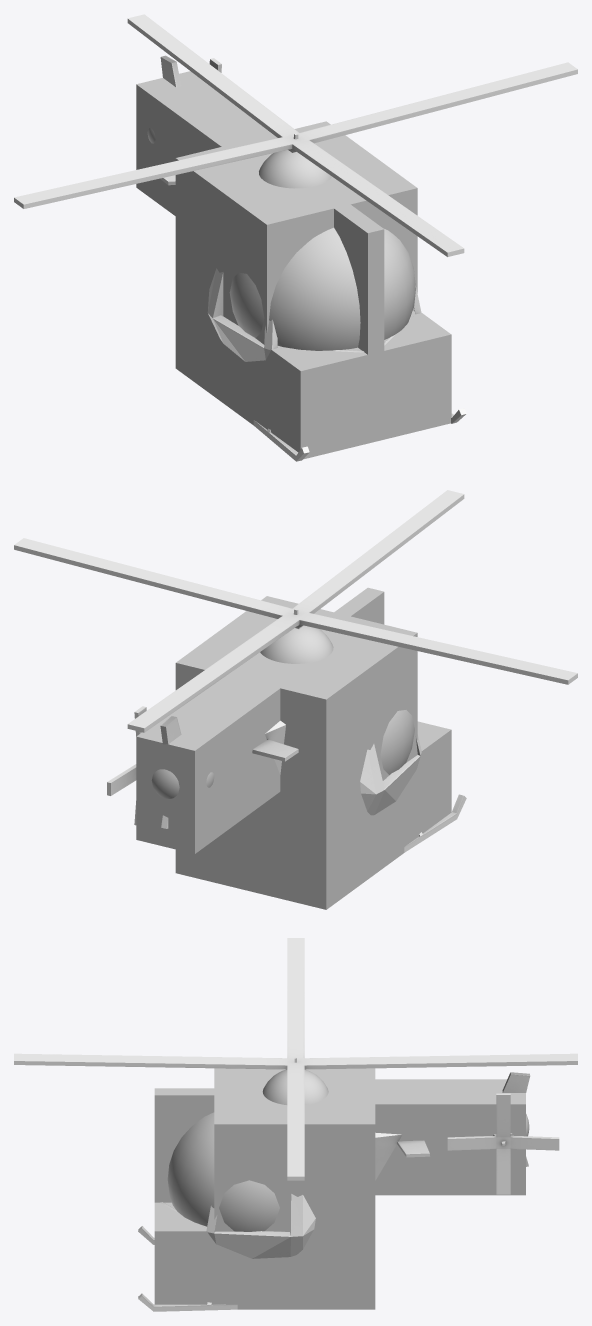
The model's file is heli.glb.
3 renders of one model, top to bottom at view 1: azimuth 30°, elevation 25°; view 2: azimuth 150°, elevation 25°; view 3: azimuth 270°, elevation 25°, orthographic. The views are drawn at different scales.
Visible parts, largest first — view 1: Cube.006, Cube.004, Sphere.007, Cube.008, Cube.007, Cube.005, Cube.001, Cube, Sphere.005, door_R; view 2: Cube.006, Cube.007, Cube.004, Cube, Cube.008, Sphere.005, Sphere.007, Cube.001, door_R, Sphere.004, Cube.002; view 3: Cube.006, Cube.007, Cube.004, Sphere.007, Cube.005, Cube, Cube.001, Cube.002, door_L, Sphere.005.
Part boxes in pixels (bbox=[...]): Cube.006: bbox=[175, 121, 417, 428]; Cube.004: bbox=[14, 14, 577, 256]; Sphere.007: bbox=[229, 227, 415, 350]; Cube.008: bbox=[267, 346, 367, 459]; Cube.007: bbox=[136, 71, 272, 215]; Cube.005: bbox=[384, 310, 451, 439]; Cube.001: bbox=[334, 204, 384, 443]; Cube: bbox=[160, 55, 466, 461]; Sphere.005: bbox=[259, 150, 331, 188]; door_R: bbox=[213, 315, 265, 361]; Cube.006: bbox=[175, 596, 417, 909]; Cube.007: bbox=[136, 675, 280, 853]; Cube.004: bbox=[14, 490, 577, 732]; Cube: bbox=[160, 609, 466, 852]; Cube.008: bbox=[417, 721, 451, 836]; Sphere.005: bbox=[260, 625, 333, 663]; Sphere.007: bbox=[380, 710, 414, 774]; Cube.001: bbox=[334, 587, 384, 624]; door_R: bbox=[374, 755, 420, 814]; Sphere.004: bbox=[151, 769, 214, 798]; Cube.002: bbox=[107, 706, 146, 825]; Cube.006: bbox=[214, 1068, 375, 1309]; Cube.007: bbox=[375, 1079, 525, 1195]; Cube.004: bbox=[14, 938, 577, 1180]; Sphere.007: bbox=[167, 1112, 279, 1231]; Cube.005: bbox=[154, 1202, 214, 1304]; Cube: bbox=[138, 1057, 530, 1311]; Cube.001: bbox=[154, 1088, 214, 1202]; Cube.002: bbox=[447, 1093, 559, 1194]; door_L: bbox=[214, 1231, 290, 1258]; Sphere.005: bbox=[262, 1069, 328, 1104].
Bounding box in the file's own units: 3.92 × 1.69 × 3.92.
1 material, 1 textured.
